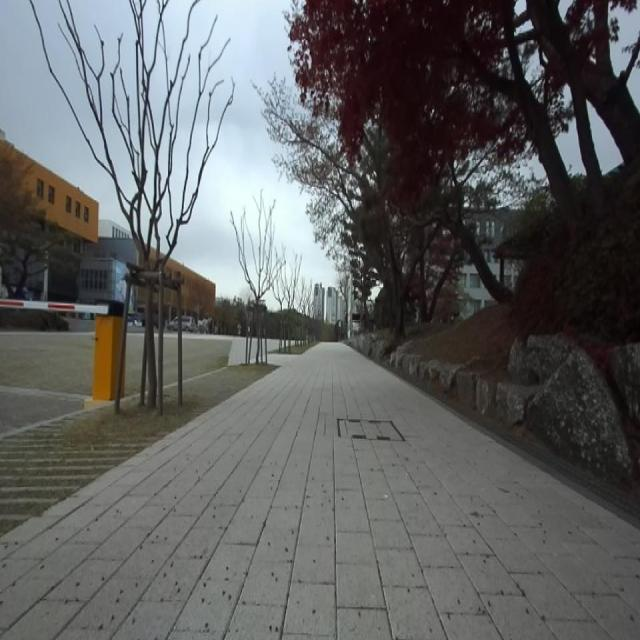sidewalk: (0, 343, 640, 640), (228, 337, 246, 365), (229, 338, 246, 366), (268, 353, 300, 365), (251, 338, 258, 362), (309, 348, 316, 352)
